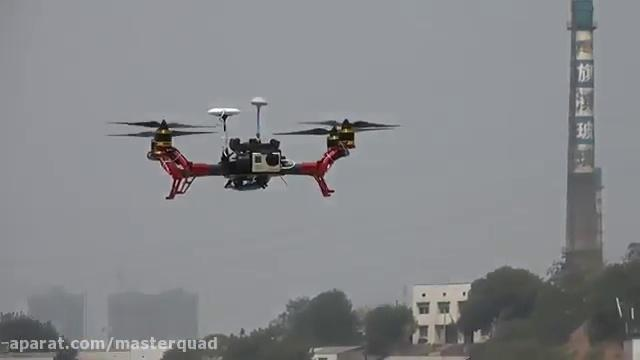drone: (99, 94, 403, 202)
